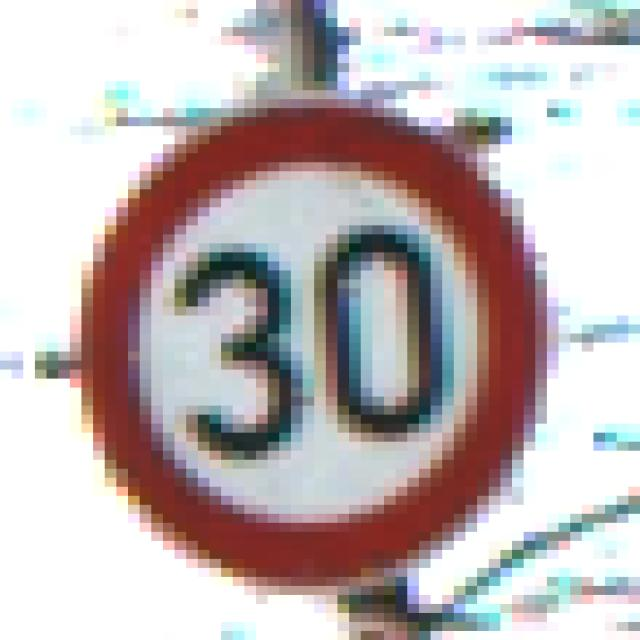Speed Limit -30-: (52, 59, 564, 572)
